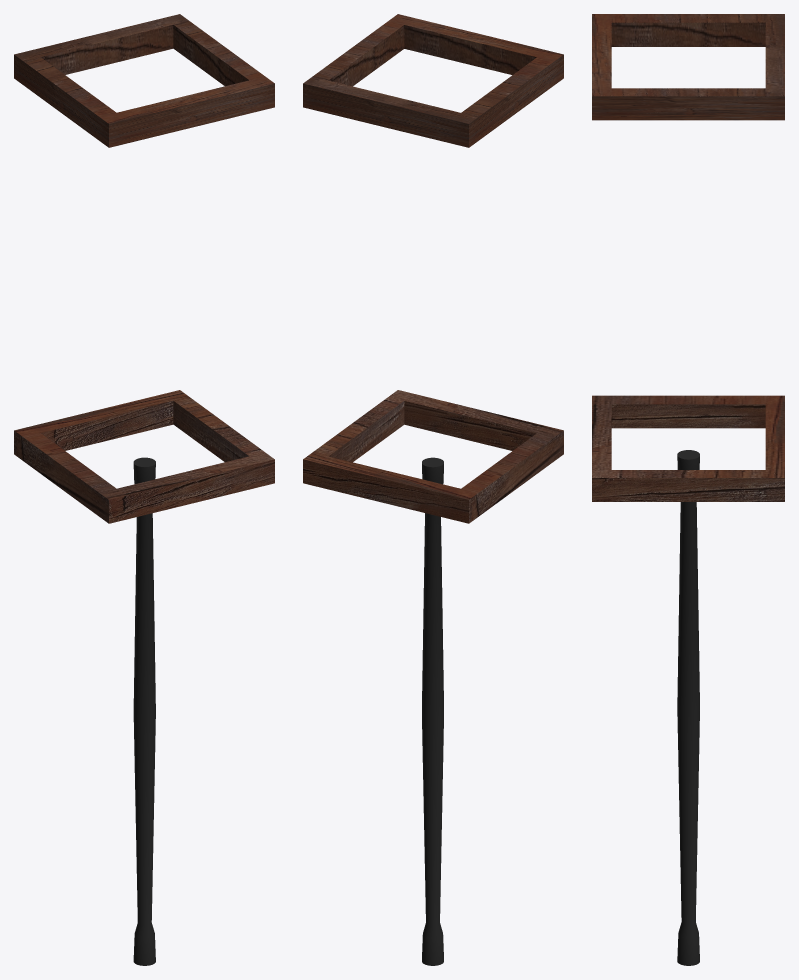
Rendered from lamp_body.FBX.
3 renders of one model, left to right at view 1: azimuth 30°, elevation 25°; view 2: azimuth 150°, elevation 25°; view 3: azimuth 270°, elevation 25°, orthographic.
Parts seen in each view (by area): view 1: Box003, Cylinder005; view 2: Box003, Cylinder005; view 3: Box003, Cylinder005.
Boxes of the visible parts, <box> form: Box003: <box>14,14,274,523</box>; Cylinder005: <box>133,457,155,965</box>; Box003: <box>303,14,563,523</box>; Cylinder005: <box>422,457,443,965</box>; Box003: <box>592,14,784,501</box>; Cylinder005: <box>677,450,699,965</box>.
Bounding box in the file's own units: 4.51 × 23.15 × 4.47.
